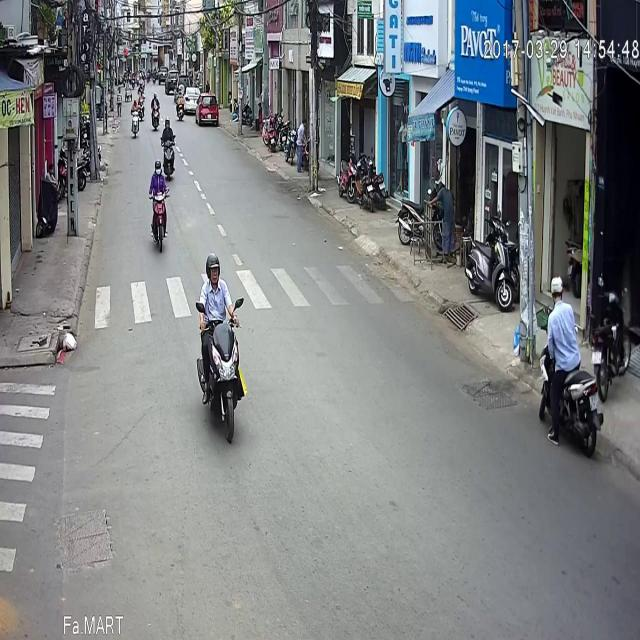car: (195, 33, 219, 66)
motorcycle: (536, 217, 602, 400), (195, 194, 248, 386), (148, 101, 168, 193), (160, 57, 176, 122), (130, 40, 140, 80), (150, 33, 160, 72)
